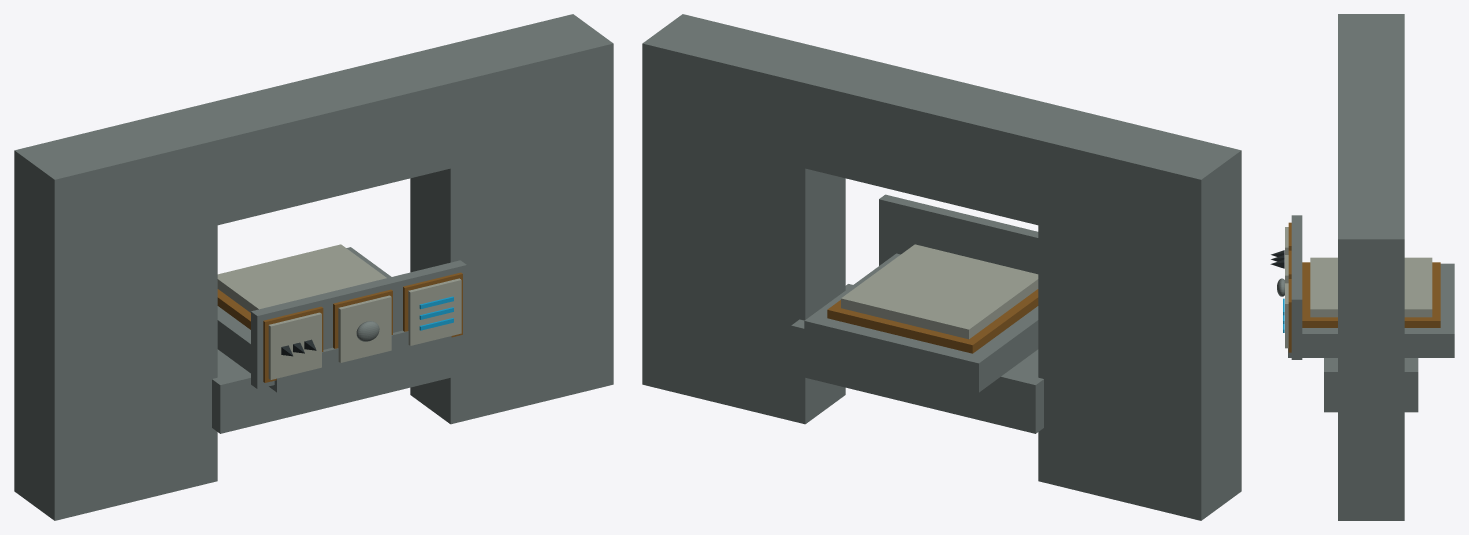
The model's file is MOV_DOOR_WALL_MESSAGE_02.obj.
3 views of the same model, side by side, from view 1: azimuth 30°, elevation 25°; view 2: azimuth 150°, elevation 25°; view 3: azimuth 270°, elevation 25° (orthographic). The views are drawn at different scales.
Parts seen in each view (by area): view 1: Part_1, Part_0, Part_2, Part_3, Part_6, Part_4, Part_19, Part_15, Part_9, Part_17, Part_7, Part_13 (+3 smaller); view 2: Part_1, Part_0, Part_2, Part_6, Part_4, Part_3, Part_7, Part_5, Part_13, Part_17; view 3: Part_0, Part_2, Part_1, Part_4, Part_6, Part_5, Part_3, Part_7, Part_13, Part_17, Part_8, Part_9.
Part boxes in pixels (left/top/right/bottom): Part_1: left=14, top=110, right=217, bottom=520; Part_0: left=410, top=14, right=613, bottom=424; Part_2: left=177, top=54, right=450, bottom=225; Part_3: left=212, top=338, right=464, bottom=433; Part_6: left=217, top=244, right=386, bottom=312; Part_4: left=217, top=247, right=451, bottom=392; Part_19: left=268, top=312, right=321, bottom=379; Part_15: left=338, top=295, right=391, bottom=362; Part_9: left=408, top=278, right=461, bottom=345; Part_17: left=251, top=294, right=327, bottom=388; Part_7: left=391, top=260, right=466, bottom=341; Part_13: left=321, top=277, right=396, bottom=348; Part_1: left=1038, top=110, right=1241, bottom=520; Part_0: left=642, top=14, right=845, bottom=424; Part_2: left=805, top=54, right=1078, bottom=225; Part_6: left=841, top=244, right=1038, bottom=339; Part_4: left=804, top=253, right=1038, bottom=392; Part_3: left=791, top=284, right=1043, bottom=433; Part_7: left=879, top=194, right=954, bottom=265; Part_5: left=827, top=289, right=1038, bottom=353; Part_13: left=948, top=211, right=1024, bottom=269; Part_17: left=1018, top=228, right=1038, bottom=274; Part_0: left=1338, top=173, right=1404, bottom=520; Part_2: left=1338, top=79, right=1404, bottom=173; Part_1: left=1338, top=14, right=1404, bottom=79; Part_4: left=1288, top=263, right=1454, bottom=357; Part_6: left=1310, top=257, right=1432, bottom=317; Part_5: left=1302, top=262, right=1440, bottom=327; Part_3: left=1324, top=358, right=1418, bottom=412; Part_7: left=1291, top=271, right=1302, bottom=359; Part_13: left=1291, top=243, right=1302, bottom=271; Part_17: left=1291, top=215, right=1302, bottom=243; Part_8: left=1288, top=279, right=1291, bottom=352; Part_9: left=1285, top=283, right=1288, bottom=348.
Bounding box in the file's own units: 4.8 × 2.8 × 1.66.
